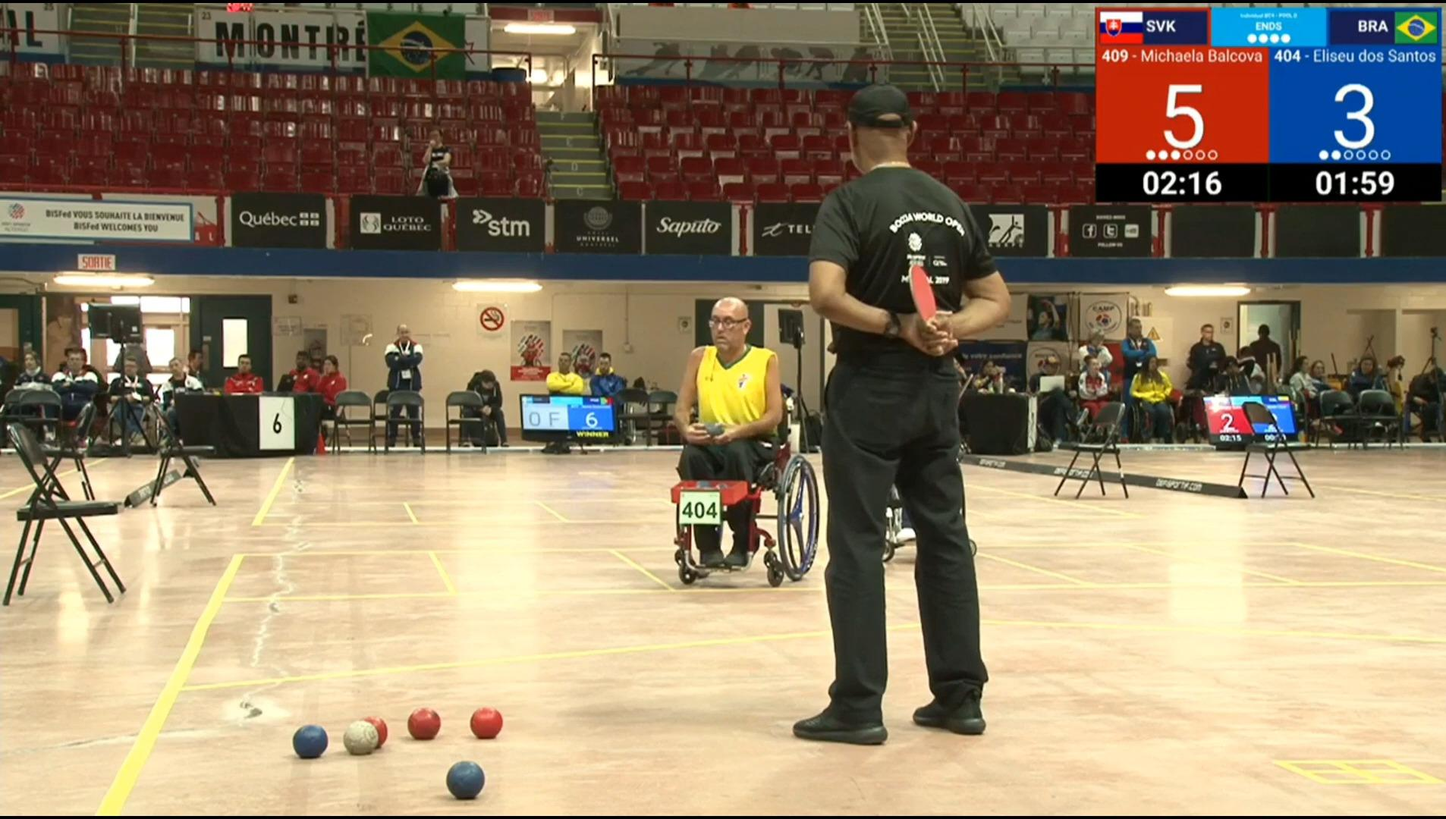blue_ball: (443, 757, 486, 803), (290, 721, 331, 762)
red_ball: (405, 705, 443, 743), (467, 704, 505, 742)
white_ball: (342, 718, 380, 755)
